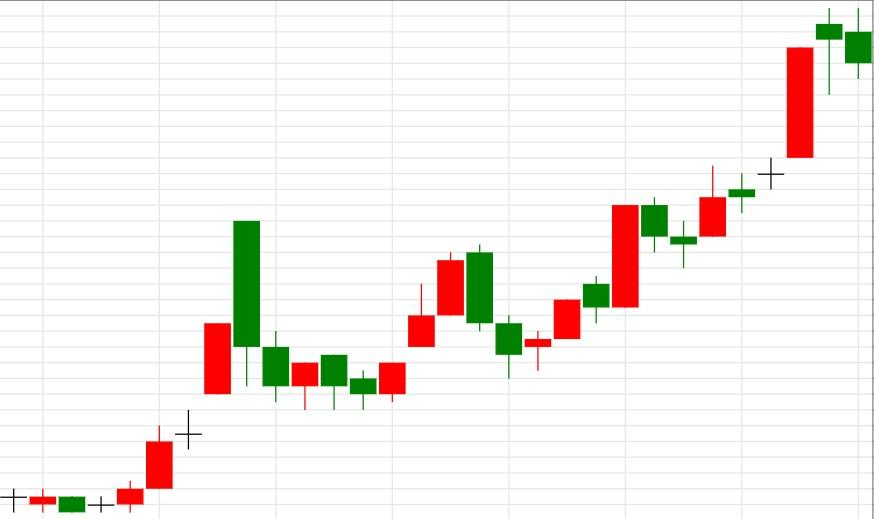bearish_engulfing_fall: (291, 243, 494, 412)
three_white_soldiers_rise: (231, 218, 465, 411)
